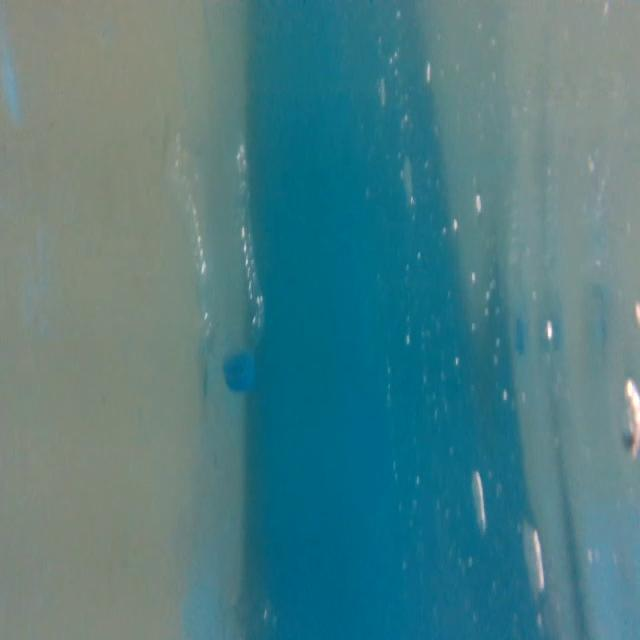plastic bottle: (157, 113, 277, 394)
